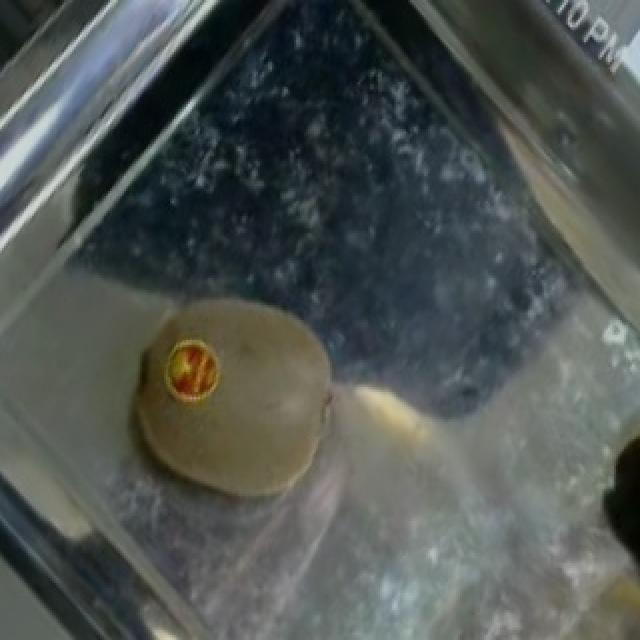Fruit: (98, 268, 366, 533)
